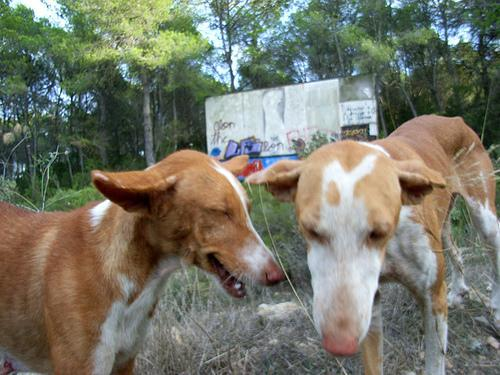Ibizan_hound: (243, 115, 499, 374), (1, 147, 288, 373)
